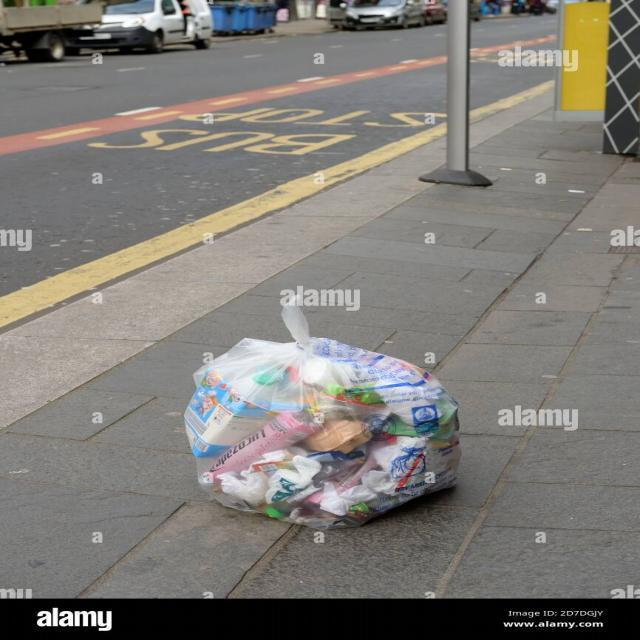Garbage_Bag: (168, 299, 501, 532)
